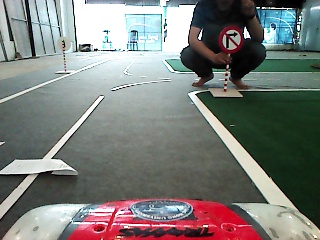ban_right: (219, 26, 244, 54)
